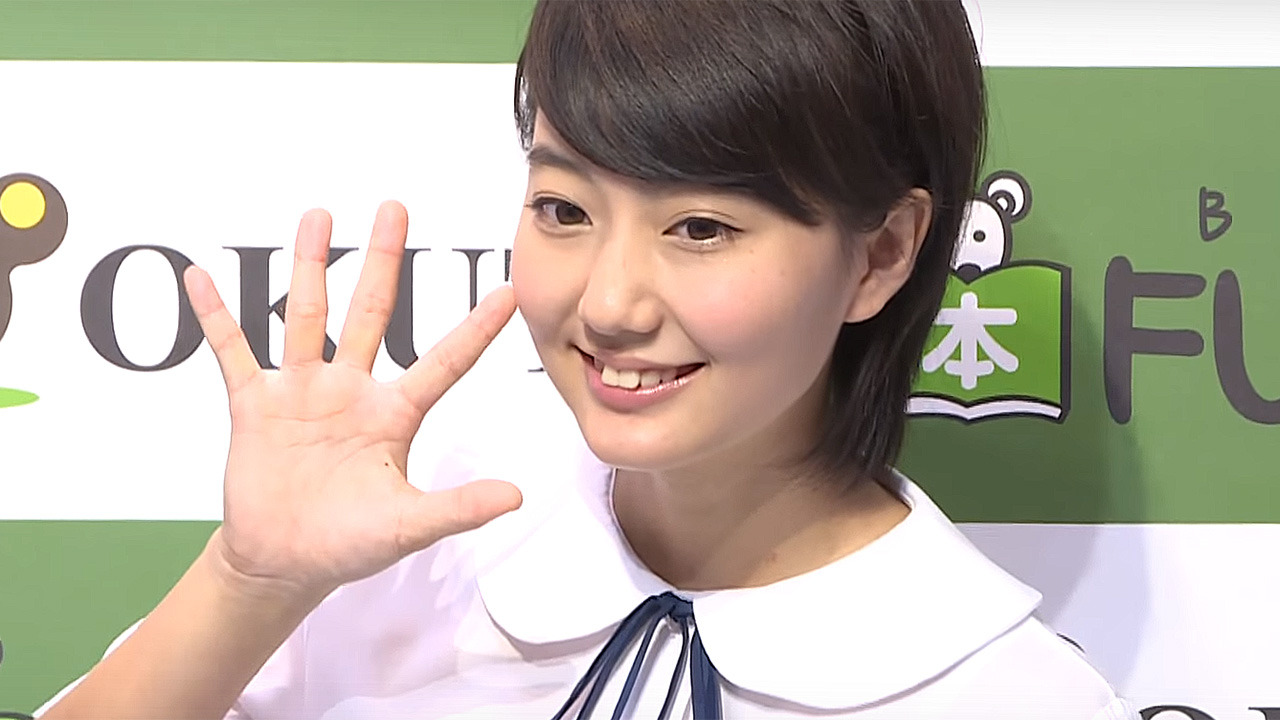face: (509, 99, 932, 475)
hand: (184, 193, 522, 587)
